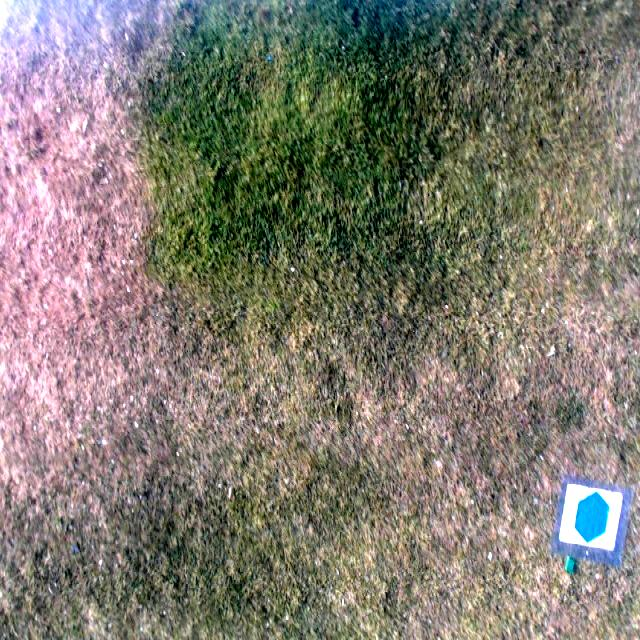blue_hexagon: (573, 488, 612, 547)
